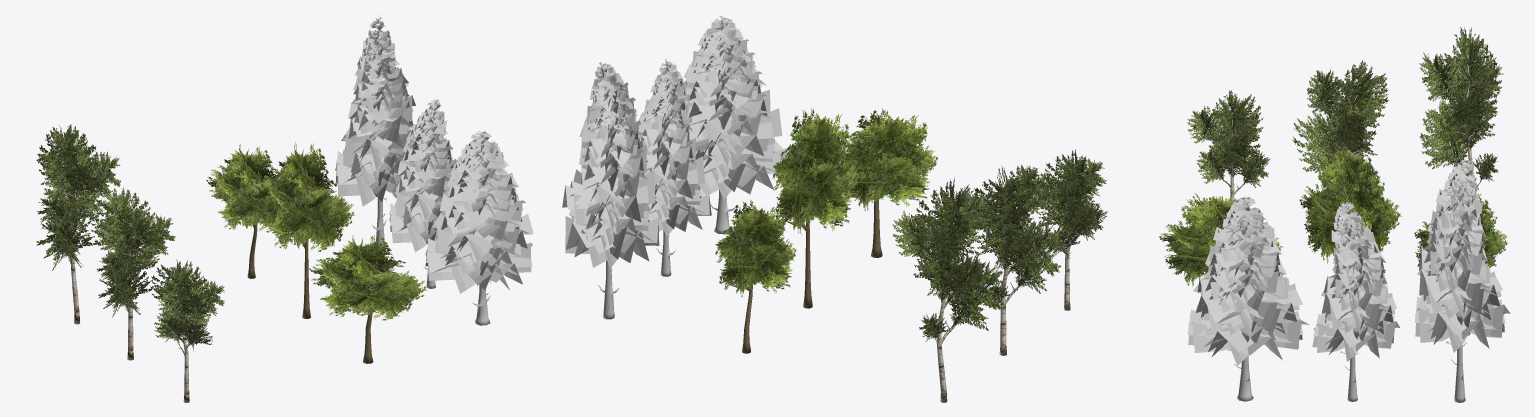
The picture shows the model from 3 angles, left to right: view 1: azimuth 30°, elevation 25°; view 2: azimuth 150°, elevation 25°; view 3: azimuth 270°, elevation 25°; orthographic projection. The views are drawn at different scales.
Parts seen in each view (by area): view 1: Plane.002, Plane.003, brzoza 3, drzewko 2, brzoza 2, Plane.001, drzewko 3, brzoza 1, drzewko 1; view 2: Plane.003, Plane.002, brzoza 3, Plane.001, drzewko 2, brzoza 2, drzewko 3, drzewko 1, brzoza 1; view 3: Plane.002, Plane.003, Plane.001, brzoza 3, brzoza 2, drzewko 2, brzoza 1, drzewko 3, drzewko 1.
Boxes of the visible parts, x1,y1,x2,y2 form: Plane.002: (425, 131, 533, 325); Plane.003: (335, 15, 415, 251); brzoza 3: (36, 124, 120, 324); drzewko 2: (258, 142, 355, 318); brzoza 2: (89, 187, 175, 360); Plane.001: (389, 99, 456, 288); drzewko 3: (309, 235, 427, 363); brzoza 1: (150, 259, 224, 402); drzewko 1: (206, 144, 279, 278); Plane.003: (562, 62, 659, 319); Plane.002: (683, 15, 786, 234); brzoza 3: (892, 177, 1004, 402); Plane.001: (638, 59, 711, 276); drzewko 2: (772, 108, 857, 308); brzoza 2: (957, 164, 1063, 355); drzewko 3: (838, 108, 937, 257); drzewko 1: (715, 200, 796, 353); brzoza 1: (1029, 149, 1107, 310); Plane.002: (1187, 196, 1309, 401); Plane.003: (1414, 160, 1510, 402); Plane.001: (1312, 201, 1399, 401); brzoza 3: (1419, 27, 1503, 186); brzoza 2: (1292, 60, 1388, 182); drzewko 2: (1299, 148, 1402, 263); brzoza 1: (1187, 90, 1270, 203); drzewko 3: (1159, 193, 1283, 286); drzewko 1: (1414, 193, 1508, 335).
Bounding box in the file's own units: 20.84 × 11.16 × 15.24.
